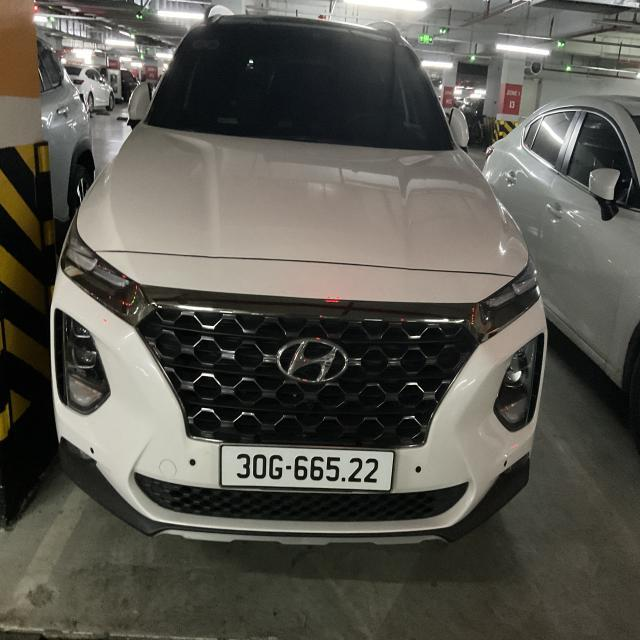license: (218, 443, 394, 492)
